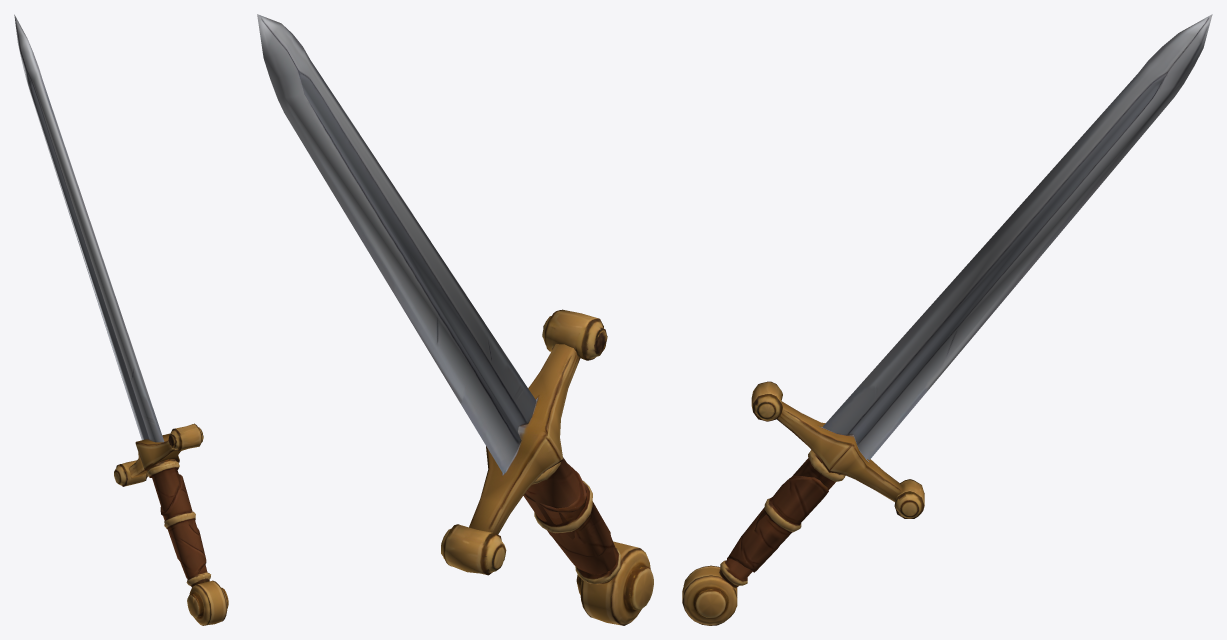
The model's file is herald_sword_tripo.glb.
3 renders of one model, left to right at view 1: azimuth 30°, elevation 25°; view 2: azimuth 150°, elevation 25°; view 3: azimuth 270°, elevation 25°, orthographic. The views are drawn at different scales.
Visible parts, largest first — view 1: tripo_node_4f59bba2-0d47-4788-b562-71c2a1cb2a0e; view 2: tripo_node_4f59bba2-0d47-4788-b562-71c2a1cb2a0e; view 3: tripo_node_4f59bba2-0d47-4788-b562-71c2a1cb2a0e.
Boxes of the visible parts, bbox=[...] form: tripo_node_4f59bba2-0d47-4788-b562-71c2a1cb2a0e: bbox=[14, 14, 228, 625]; tripo_node_4f59bba2-0d47-4788-b562-71c2a1cb2a0e: bbox=[257, 14, 653, 625]; tripo_node_4f59bba2-0d47-4788-b562-71c2a1cb2a0e: bbox=[682, 14, 1212, 625].
Size of the model in its own units: 0.0801 by 0.998 by 0.791.
Materials: 1 (1 with a texture image).
